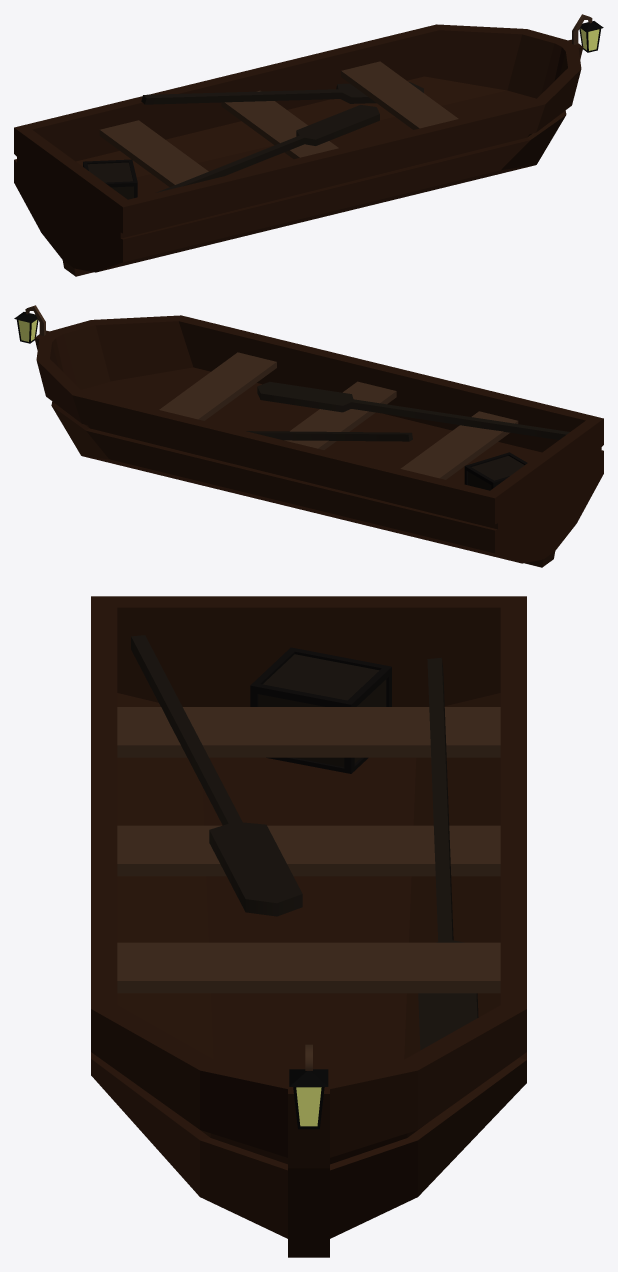
Rendered from Tiny Boat from Over the Seas.fbx.
3 views of the same model, one above another, from view 1: azimuth 30°, elevation 25°; view 2: azimuth 150°, elevation 25°; view 3: azimuth 270°, elevation 25° (orthographic). The views are drawn at different scales.
Visible parts, largest first — view 1: Boat, Bancos, Remos, caja, cantos; view 2: Boat, Bancos, Remos, caja, cantos; view 3: Boat, Bancos, Remos, caja, cantos, Farolillo002, CristalesFarolillos001.
Part boxes in pixels (x1=…): Boat: x1=14, y1=24, x2=583, y2=276; Bancos: x1=99, y1=61, x2=458, y2=186; Remos: x1=141, y1=82, x2=423, y2=192; caja: x1=87, y1=162, x2=133, y2=199; cantos: x1=83, y1=159, x2=137, y2=197; Boat: x1=34, y1=315, x2=603, y2=567; Bancos: x1=159, y1=352, x2=518, y2=479; Remos: x1=246, y1=381, x2=569, y2=441; caja: x1=468, y1=456, x2=524, y2=490; cantos: x1=464, y1=452, x2=527, y2=489; Boat: x1=91, y1=596, x2=526, y2=1257; Bancos: x1=117, y1=707, x2=500, y2=993; Remos: x1=131, y1=635, x2=478, y2=1050; caja: x1=258, y1=654, x2=386, y2=767; cantos: x1=250, y1=647, x2=391, y2=773; Farolillo002: x1=289, y1=1069, x2=328, y2=1129; CristalesFarolillos001: x1=296, y1=1087, x2=321, y2=1126.
Size of the model in its own units: 238 by 56.83 by 84.91.
